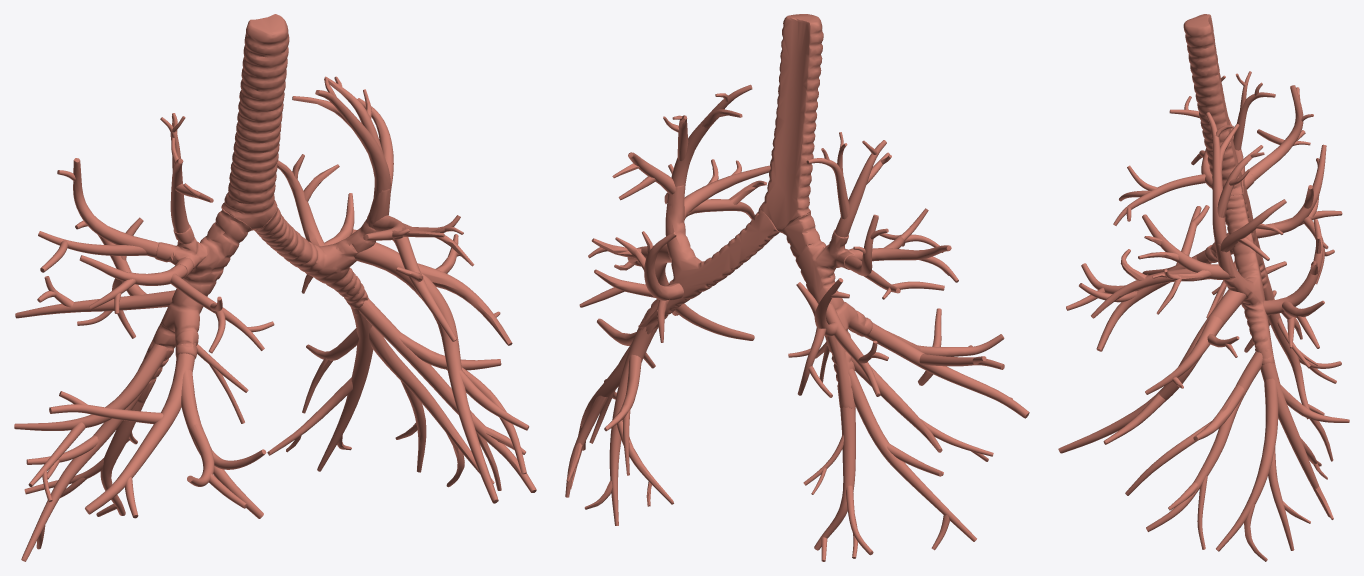
The model's file is respiratory.thorax.glb.
3 renders of one model, left to right at view 1: azimuth 30°, elevation 25°; view 2: azimuth 150°, elevation 25°; view 3: azimuth 270°, elevation 25°, orthographic. The views are drawn at different scales.
Parts seen in each view (by area): view 1: trachea, right_main_bronchus_proper, left_main_bronchus, inferior_lingular_bronchial_tree, lateral_segmental_bronchial_tree, left_posterior_basal_segmental_bronchial_tree, left_lateral_basal_segmental_bronchial_tree, right_superior_segmental_bronchial_tree, right_anterior_segmental_bronchial_tree, medial_segmental_bronchial_tree, right_posterior_segmental_bronchial_tree, left_anterior_segmental_bronchial_tree (+11 smaller); view 2: trachea, left_main_bronchus, right_main_bronchus_proper, left_posterior_basal_segmental_bronchial_tree, right_superior_segmental_bronchial_tree, lateral_segmental_bronchial_tree, right_lateral_basal_segmental_bronchial_tree, left_superior_segmental_bronchial_tree, right_posterior_basal_segmental_bronchial_tree, left_anterior_segmental_bronchial_tree, right_apical_segmental_bronchial_tree, left_apical_segmental_bronchial_tree (+9 smaller); view 3: trachea, left_main_bronchus, left_lateral_basal_segmental_bronchial_tree, left_anterior_segmental_bronchial_tree, left_posterior_basal_segmental_bronchial_tree, inferior_lingular_bronchial_tree, left_apical_segmental_bronchial_tree, left_superior_segmental_bronchial_tree, left_medial_basal_segmental_bronchial_tree, left_anterior_basal_segmental_bronchial_tree, right_superior_segmental_bronchial_tree, medial_segmental_bronchial_tree (+8 smaller).
Part boxes in pixels (bbox=[...]): trachea: bbox=[221, 14, 289, 230]; right_main_bronchus_proper: bbox=[138, 207, 252, 402]; left_main_bronchus: bbox=[254, 187, 390, 315]; inferior_lingular_bronchial_tree: bbox=[352, 242, 529, 503]; lateral_segmental_bronchial_tree: bbox=[49, 343, 196, 518]; left_posterior_basal_segmental_bronchial_tree: bbox=[267, 303, 373, 471]; left_lateral_basal_segmental_bronchial_tree: bbox=[369, 326, 494, 487]; right_superior_segmental_bronchial_tree: bbox=[15, 217, 175, 338]; right_anterior_segmental_bronchial_tree: bbox=[79, 255, 274, 353]; medial_segmental_bronchial_tree: bbox=[181, 370, 266, 518]; right_posterior_segmental_bronchial_tree: bbox=[38, 158, 175, 272]; left_anterior_segmental_bronchial_tree: bbox=[363, 215, 474, 341]; trachea: bbox=[760, 14, 823, 232]; left_main_bronchus: bbox=[638, 185, 779, 334]; right_main_bronchus_proper: bbox=[782, 211, 872, 409]; left_posterior_basal_segmental_bronchial_tree: bbox=[584, 314, 673, 525]; right_superior_segmental_bronchial_tree: bbox=[788, 278, 888, 397]; lateral_segmental_bronchial_tree: bbox=[865, 318, 1029, 418]; right_lateral_basal_segmental_bronchial_tree: bbox=[848, 368, 976, 550]; left_superior_segmental_bronchial_tree: bbox=[579, 231, 683, 342]; right_posterior_basal_segmental_bronchial_tree: bbox=[803, 407, 873, 561]; left_anterior_segmental_bronchial_tree: bbox=[664, 159, 770, 220]; right_apical_segmental_bronchial_tree: bbox=[806, 132, 891, 237]; left_apical_segmental_bronchial_tree: bbox=[663, 84, 752, 223]; trachea: bbox=[1183, 14, 1244, 199]; left_main_bronchus: bbox=[1214, 194, 1274, 364]; left_lateral_basal_segmental_bronchial_tree: bbox=[1216, 378, 1310, 561]; left_anterior_segmental_bronchial_tree: bbox=[1091, 214, 1230, 318]; left_posterior_basal_segmental_bronchial_tree: bbox=[1260, 348, 1349, 519]; inferior_lingular_bronchial_tree: bbox=[1058, 289, 1246, 453]; left_apical_segmental_bronchial_tree: bbox=[1206, 112, 1264, 279]; left_superior_segmental_bronchial_tree: bbox=[1263, 219, 1324, 348]; left_medial_basal_segmental_bronchial_tree: bbox=[1146, 350, 1262, 531]; left_anterior_basal_segmental_bronchial_tree: bbox=[1125, 385, 1244, 549]; right_superior_segmental_bronchial_tree: bbox=[1255, 144, 1342, 284]; medial_segmental_bronchial_tree: bbox=[1066, 255, 1197, 351].
Bounding box in the file's own units: 0.2394 × 0.2706 × 0.1576.
